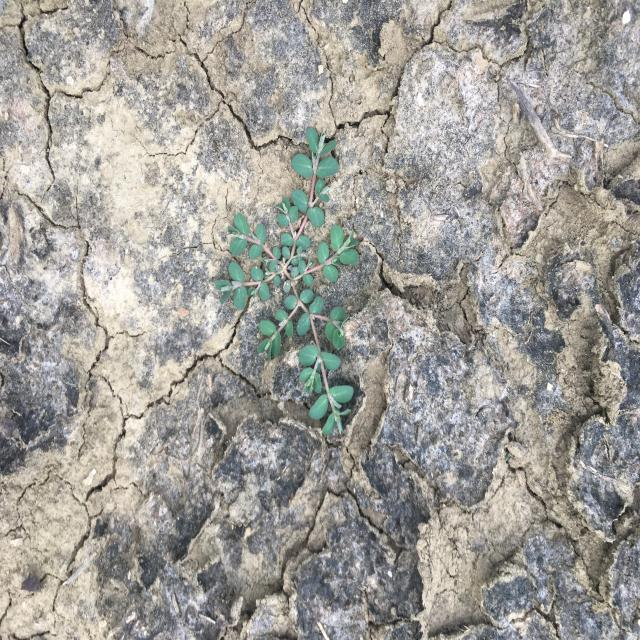SpottedSpurge: (212, 126, 360, 438)
